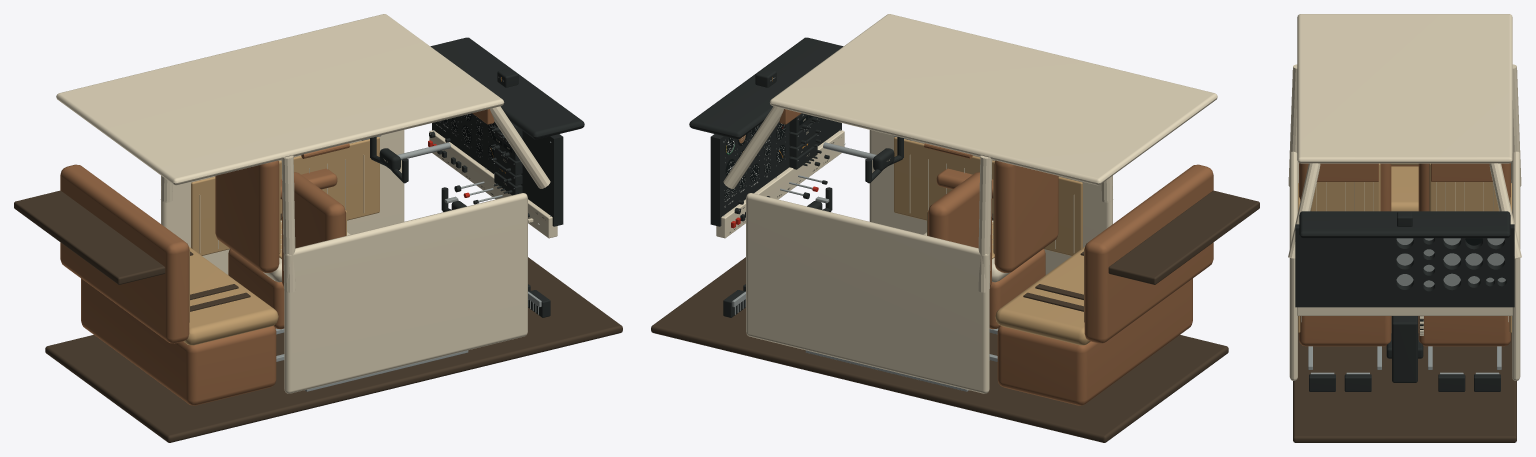
File: c172-interior.glb
The picture shows the model from 3 angles, left to right: view 1: azimuth 30°, elevation 25°; view 2: azimuth 150°, elevation 25°; view 3: azimuth 270°, elevation 25°; orthographic projection. The views are drawn at different scales.
Visible parts, largest first — view 1: C172_Interior_static, C172_Headliner, C172_Door_R, C172_Rear_bench_base, C172_Door_L, C172_Seat_base_L, C172_Yoke_L_roll; view 2: C172_Interior_static, C172_Headliner, C172_Door_L, C172_Rear_bench_base, C172_Door_R, C172_Seat_base_R, C172_Yoke_R_roll; view 3: C172_Interior_static, C172_Headliner, C172_Seat_base_R, C172_Seat_base_L, C172_Door_L, C172_Door_R, C172_Sunvisor_L, C172_Sunvisor_R, C172_Pedal_L_R, C172_Pedal_R_L, C172_Pedal_L_L, C172_Pedal_R_R (+1 smaller).
Part boxes in pixels (<box>): C172_Interior_static: <box>14,37,622,442</box>; C172_Headliner: <box>56,14,504,185</box>; C172_Door_R: <box>284,193,527,393</box>; C172_Rear_bench_base: <box>81,278,276,405</box>; C172_Door_L: <box>161,130,404,274</box>; C172_Seat_base_L: <box>228,249,284,329</box>; C172_Yoke_L_roll: <box>370,136,408,183</box>; C172_Interior_static: <box>651,37,1259,442</box>; C172_Headliner: <box>769,14,1217,185</box>; C172_Door_L: <box>746,193,989,393</box>; C172_Rear_bench_base: <box>997,278,1192,405</box>; C172_Door_R: <box>869,130,1112,274</box>; C172_Seat_base_R: <box>989,249,1045,329</box>; C172_Yoke_R_roll: <box>865,136,903,183</box>; C172_Interior_static: <box>1288,64,1521,442</box>; C172_Headliner: <box>1297,14,1512,163</box>; C172_Seat_base_R: <box>1299,316,1391,346</box>; C172_Seat_base_L: <box>1418,316,1510,346</box>; C172_Door_L: <box>1512,151,1520,380</box>; C172_Door_R: <box>1289,151,1297,380</box>; C172_Sunvisor_L: <box>1431,163,1492,181</box>; C172_Sunvisor_R: <box>1317,163,1378,181</box>; C172_Pedal_L_R: <box>1438,374,1465,391</box>; C172_Pedal_R_L: <box>1344,374,1371,391</box>; C172_Pedal_L_L: <box>1474,374,1500,391</box>; C172_Pedal_R_R: <box>1309,374,1335,391</box>.
Size of the model in its own units: 2.4 by 1.2 by 1.09.
